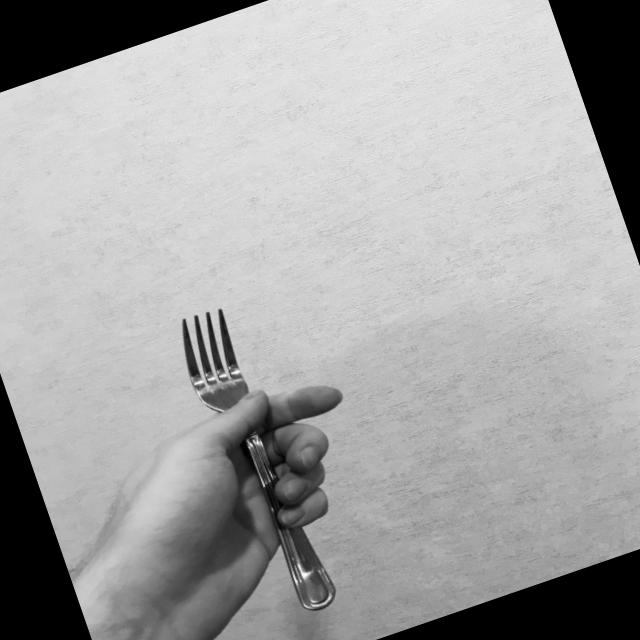fork: (166, 296, 342, 626)
